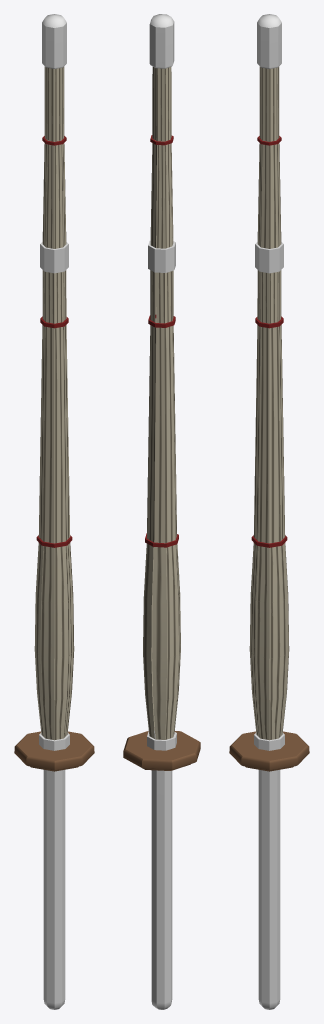
Rendered from sword.obj.
3 views of the same model, side by side, from view 1: azimuth 90°, elevation 25°; view 2: azimuth 150°, elevation 25°; view 3: azimuth 270°, elevation 25° (orthographic).
Visible parts, largest first — view 1: pCylinder1; view 2: pCylinder1; view 3: pCylinder1.
Boxes of the visible parts, x1,y1,x2,y2 form: pCylinder1: [14, 14, 94, 1009]; pCylinder1: [123, 14, 200, 1009]; pCylinder1: [229, 14, 309, 1009].
Bounding box in the file's own units: 0.7936 × 10.86 × 0.7936.
